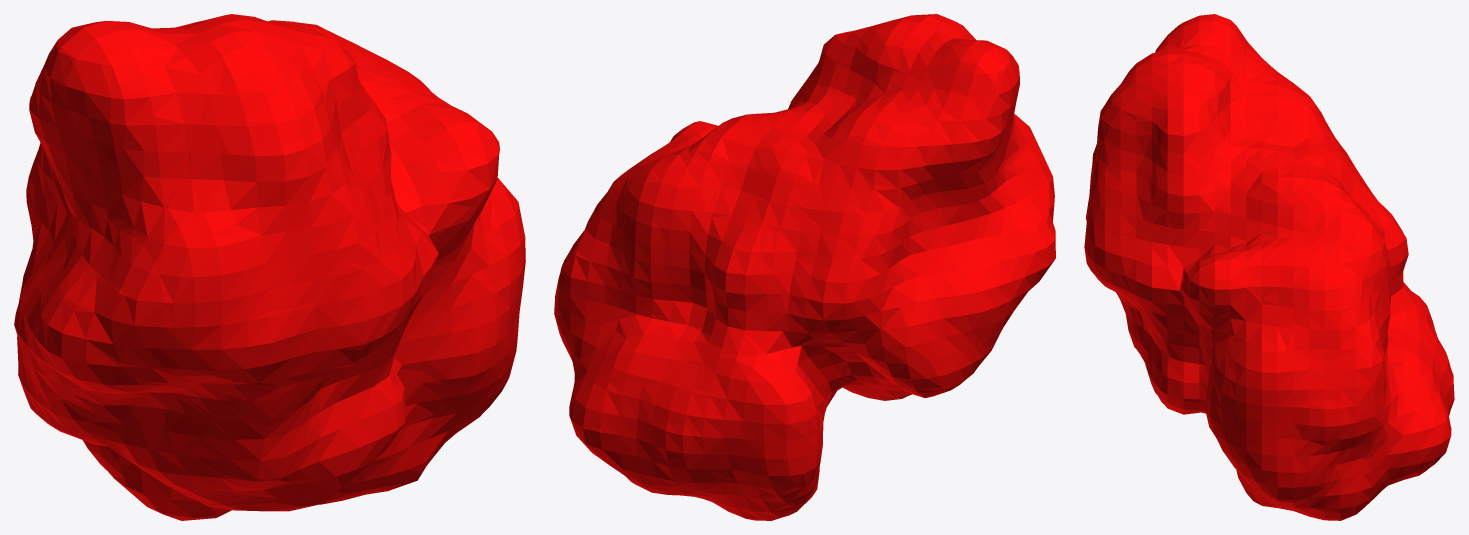
The model's file is menC_coarse.dae.
3 views of the same model, side by side, from view 1: azimuth 30°, elevation 25°; view 2: azimuth 150°, elevation 25°; view 3: azimuth 270°, elevation 25° (orthographic). The views are drawn at different scales.
Visible parts, largest first — view 1: menC; view 2: menC; view 3: menC.
Part boxes in pixels (bbox=[...]): menC: bbox=[14, 14, 525, 520]; menC: bbox=[554, 14, 1055, 520]; menC: bbox=[1084, 14, 1454, 520].
Size of the model in its own units: 57.1 by 60.34 by 50.78.
